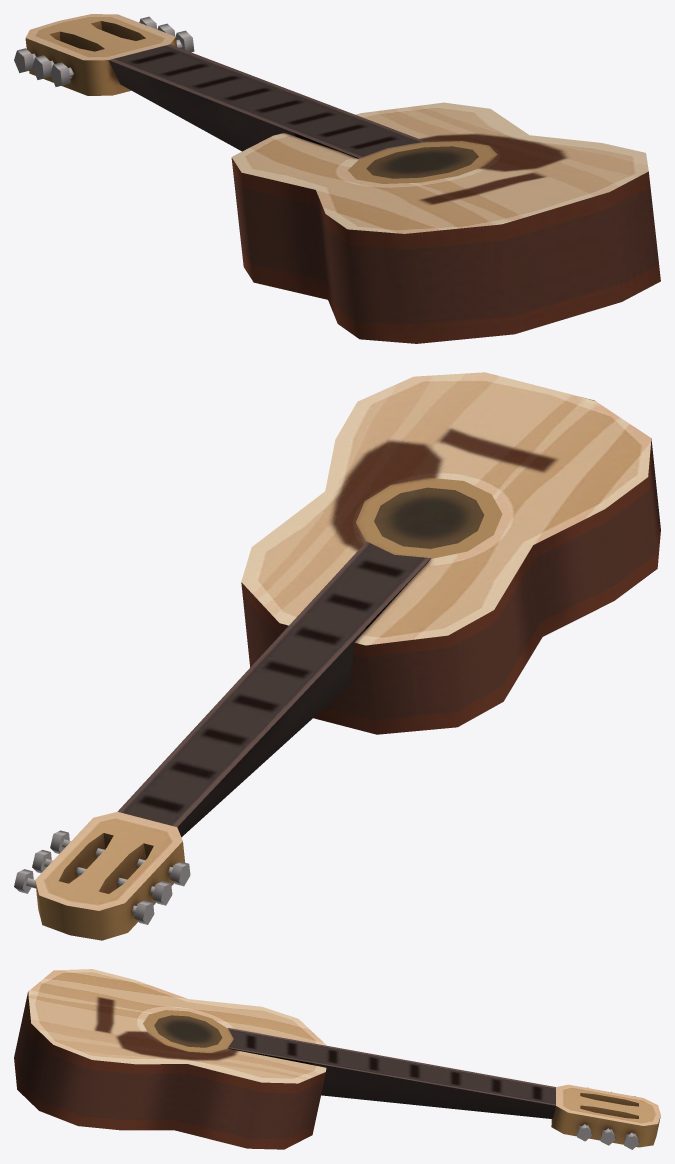
Rendered from InteractiveAcousticGuitar.fbx.
3 renders of one model, top to bottom at view 1: azimuth 30°, elevation 25°; view 2: azimuth 150°, elevation 25°; view 3: azimuth 270°, elevation 25°, orthographic. The views are drawn at different scales.
Visible parts, largest first — view 1: InteractiveAcousticGuitar; view 2: InteractiveAcousticGuitar; view 3: InteractiveAcousticGuitar.
Part boxes in pixels (bbox=[...]): InteractiveAcousticGuitar: bbox=[14, 14, 660, 343]; InteractiveAcousticGuitar: bbox=[14, 372, 660, 940]; InteractiveAcousticGuitar: bbox=[14, 969, 660, 1149].
Bounding box in the file's own units: 29.02 × 19.05 × 84.49.
